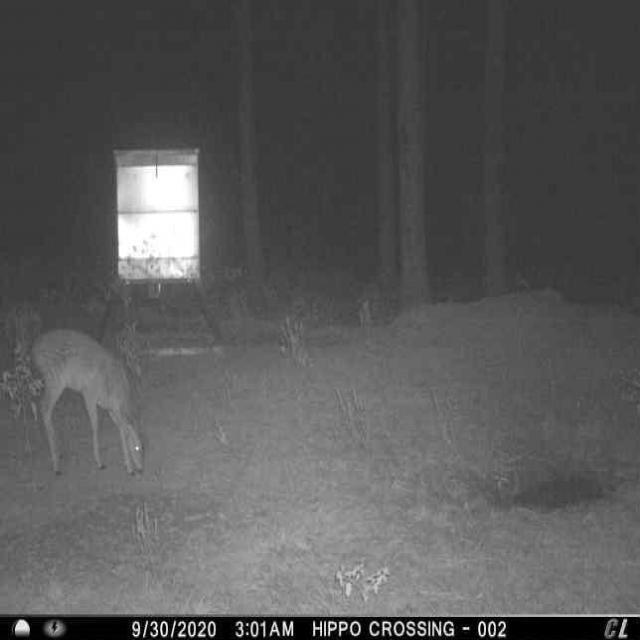Deer: (29, 324, 154, 488)
